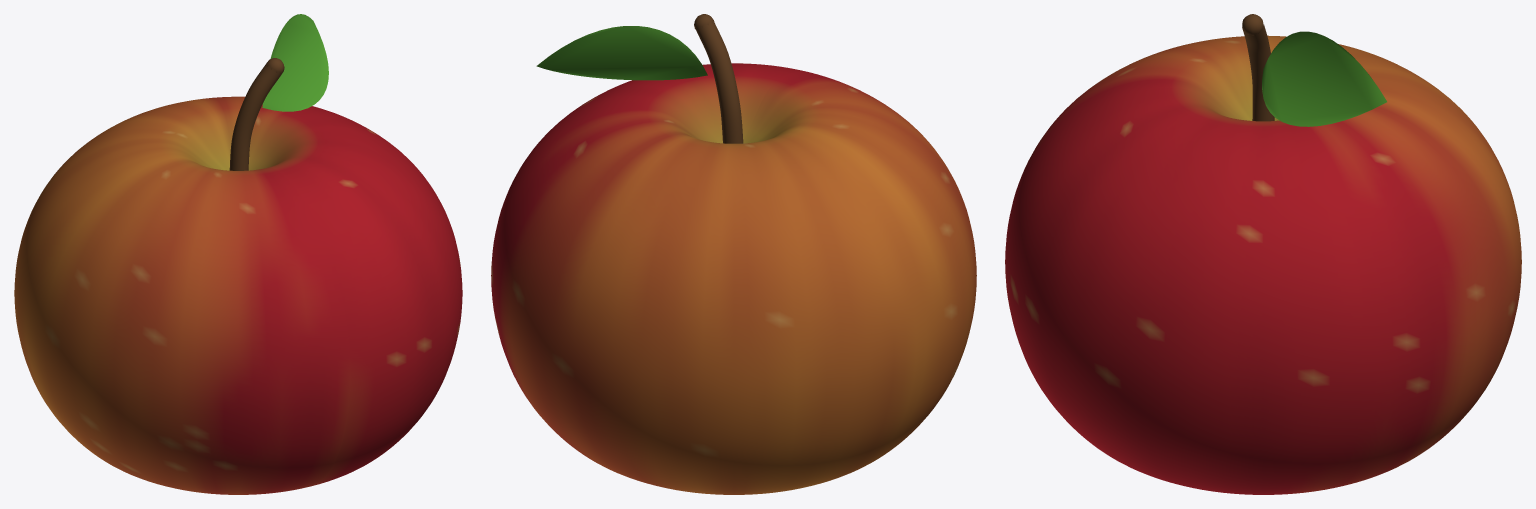
File: apple.glb
The picture shows the model from 3 angles, left to right: view 1: azimuth 30°, elevation 25°; view 2: azimuth 150°, elevation 25°; view 3: azimuth 270°, elevation 25°; orthographic projection. The views are drawn at different scales.
Parts seen in each view (by area): view 1: Apple; view 2: Apple; view 3: Apple.
Boxes of the visible parts, <box> form: Apple: <box>14,14,462,494</box>; Apple: <box>491,14,976,494</box>; Apple: <box>1005,14,1521,494</box>.
Bounding box in the file's own units: 0.1947 × 0.1854 × 0.1947.
